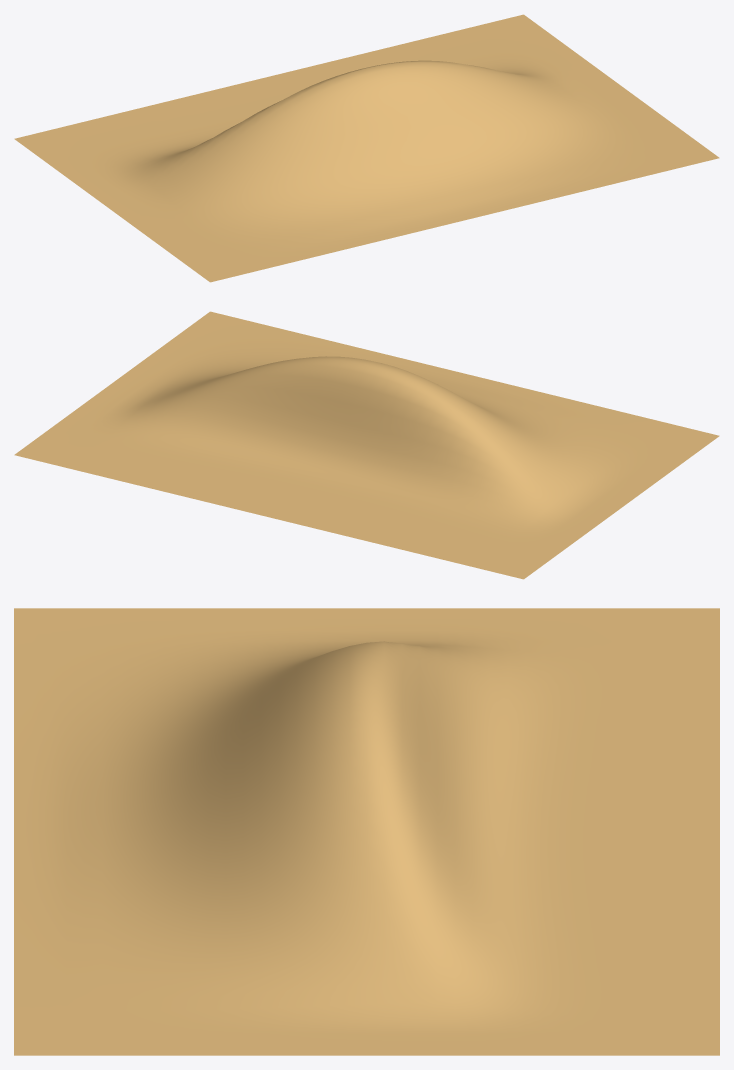
File: dune.glb
3 views of the same model, one above another, from view 1: azimuth 30°, elevation 25°; view 2: azimuth 150°, elevation 25°; view 3: azimuth 270°, elevation 25° (orthographic). The views are drawn at different scales.
Visible parts, largest first — view 1: dune; view 2: dune; view 3: dune.
Boxes of the visible parts, box(x1,y1,x2,y2) form: dune: box(14, 14, 719, 282); dune: box(14, 311, 719, 579); dune: box(14, 608, 719, 1055).
Size of the model in its own units: 60 by 9 by 40.
